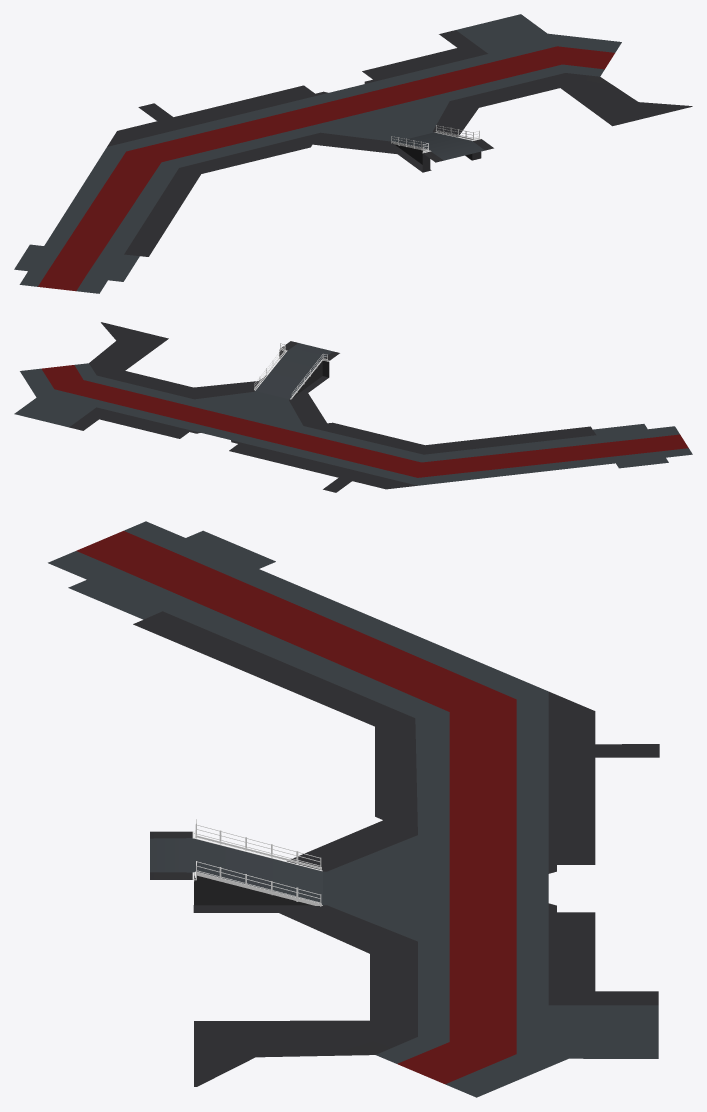
The model's file is SM_H_Building_Tide_Jail_A_05b_ATLAS.fbx.
3 renders of one model, top to bottom at view 1: azimuth 30°, elevation 25°; view 2: azimuth 150°, elevation 25°; view 3: azimuth 270°, elevation 25°, orthographic. The views are drawn at different scales.
Parts seen in each view (by area): view 1: SM_H_Building_Tide_Jail_A_05b_ATLAS; view 2: SM_H_Building_Tide_Jail_A_05b_ATLAS; view 3: SM_H_Building_Tide_Jail_A_05b_ATLAS.
Boxes of the visible parts, x1=… form: SM_H_Building_Tide_Jail_A_05b_ATLAS: x1=14, y1=14, x2=692, y2=293; SM_H_Building_Tide_Jail_A_05b_ATLAS: x1=14, y1=322, x2=692, y2=492; SM_H_Building_Tide_Jail_A_05b_ATLAS: x1=48, y1=521, x2=659, y2=1097.
Bounding box in the file's own units: 11979 × 5377 × 463.
